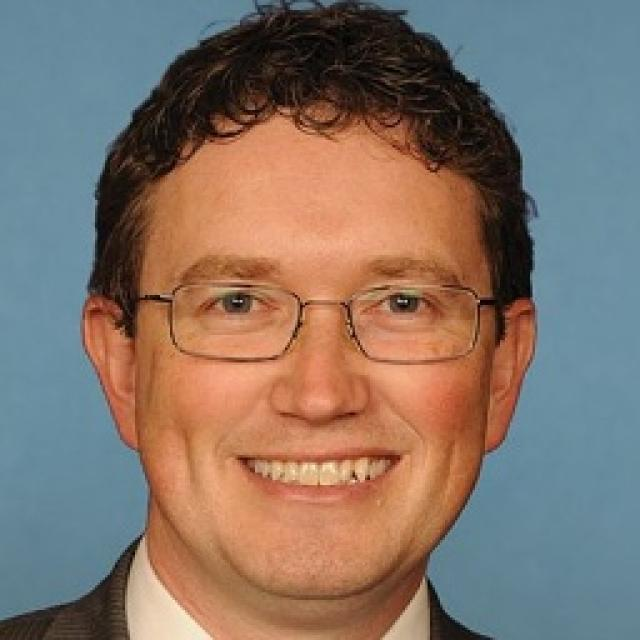glasses: (115, 268, 522, 374)
